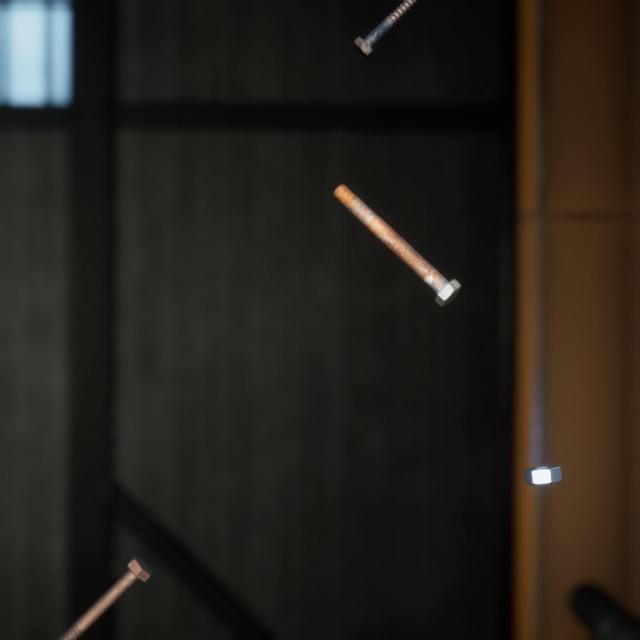bolt: (328, 165, 465, 295), (45, 528, 157, 638), (349, 0, 417, 55)
nut: (520, 440, 566, 468)
